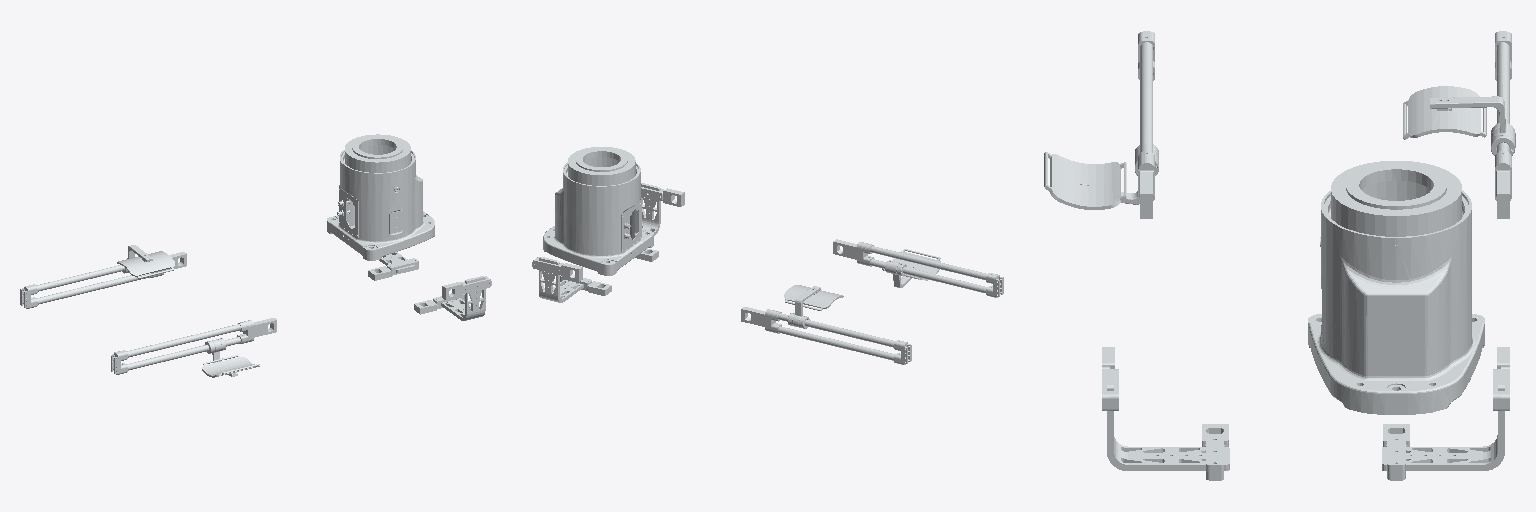
The robot description file, URDF, robot "exo":
<robot name="exo">
  <link name="base_link">
    <inertial>
      <origin xyz="0.0034138 -0.1254 -0.1285" rpy="0 0 0" />
      <mass value="3.6015" />
      <inertia ixx="0.0035299" ixy="-1.1671E-06" ixz="9.82E-06" iyy="0.0028399" iyz="-4.1754E-08" izz="0.0061042" />
    </inertial>
    <visual>
      <origin xyz="0 0 0" rpy="0 0 0" />
      <geometry>
        <mesh filename="meshes/base_link.STL" />
      </geometry>
      <material name="">
        <color rgba="0.89804 0.91765 0.92941 1" />
      </material>
    </visual>
    <collision>
      <origin xyz="0 0 0" rpy="0 0 0" />
      <geometry>
        <mesh filename="meshes/base_link.STL" />
      </geometry>
    </collision>
  </link>
  <link name="R_hip_ab_Link">
    <inertial>
      <origin xyz="0.062961 0.084633 -0.065069" rpy="0 0 0" />
      <mass value="0.70297" />
      <inertia ixx="0.0015946" ixy="-9.7055E-06" ixz="9.7056E-06" iyy="0.0011657" iyz="-0.00045578" izz="0.0016625" />
    </inertial>
    <visual>
      <origin xyz="0 0 0" rpy="0 0 0" />
      <geometry>
        <mesh filename="meshes/R_hip_ab_Link.STL" />
      </geometry>
      <material name="">
        <color rgba="0.89804 0.91765 0.92941 1" />
      </material>
    </visual>
    <collision>
      <origin xyz="0 0 0" rpy="0 0 0" />
      <geometry>
        <mesh filename="meshes/R_hip_ab_Link.STL" />
      </geometry>
    </collision>
  </link>
  <joint name="R_hip_ab" type="revolute">
    <origin xyz="0 0 0" rpy="0 0 0" />
    <parent link="base_link" />
    <child link="R_hip_ab_Link" />
    <axis xyz="0 0 1" />
    <limit lower="0" upper="0" effort="0" velocity="0" />
  </joint>
  <link name="R_hip_flex_link">
    <inertial>
      <origin xyz="-0.25942 0.0061337 -0.048518" rpy="0 0 0" />
      <mass value="3.3538" />
      <inertia ixx="0.0027427" ixy="-5.5939E-07" ixz="-1.307E-07" iyy="0.0040281" iyz="-6.4922E-05" izz="0.0059218" />
    </inertial>
    <visual>
      <origin xyz="0 0 0" rpy="0 0 0" />
      <geometry>
        <mesh filename="meshes/R_hip_flex_link.STL" />
      </geometry>
      <material name="">
        <color rgba="0.89804 0.91765 0.92941 1" />
      </material>
    </visual>
    <collision>
      <origin xyz="0 0 0" rpy="0 0 0" />
      <geometry>
        <mesh filename="meshes/R_hip_flex_link.STL" />
      </geometry>
    </collision>
  </link>
  <joint name="R_hip_flex" type="revolute">
    <origin xyz="0 0.121 0" rpy="1.5708 0 0" />
    <parent link="R_hip_ab_Link" />
    <child link="R_hip_flex_link" />
    <axis xyz="0 0 1" />
    <limit lower="0" upper="0" effort="0" velocity="0" />
  </joint>
  <link name="R_knee_link">
    <inertial>
      <origin xyz="-0.17215 0.025186 -0.0014145" rpy="0 0 0" />
      <mass value="0.75992" />
      <inertia ixx="0.00047703" ixy="9.6405E-09" ixz="-6.3773E-09" iyy="0.0023194" iyz="-4.8885E-05" izz="0.0021608" />
    </inertial>
    <visual>
      <origin xyz="0 0 0" rpy="0 0 0" />
      <geometry>
        <mesh filename="meshes/R_knee_link.STL" />
      </geometry>
      <material name="">
        <color rgba="0.89804 0.91765 0.92941 1" />
      </material>
    </visual>
    <collision>
      <origin xyz="0 0 0" rpy="0 0 0" />
      <geometry>
        <mesh filename="meshes/R_knee_link.STL" />
      </geometry>
    </collision>
  </link>
  <joint name="R_knee" type="revolute">
    <origin xyz="-0.543 0 0" rpy="0 0 0" />
    <parent link="R_hip_flex_link" />
    <child link="R_knee_link" />
    <axis xyz="0 0 1" />
    <limit lower="0" upper="0" effort="0" velocity="0" />
  </joint>
  <link name="L_hip_ab_link">
    <inertial>
      <origin xyz="0.062961 -0.084633 -0.065069" rpy="0 0 0" />
      <mass value="0.70297" />
      <inertia ixx="0.0015946" ixy="9.7056E-06" ixz="9.7056E-06" iyy="0.0011657" iyz="0.00045578" izz="0.0016625" />
    </inertial>
    <visual>
      <origin xyz="0 0 0" rpy="0 0 0" />
      <geometry>
        <mesh filename="meshes/L_hip_ab_link.STL" />
      </geometry>
      <material name="">
        <color rgba="0.89804 0.91765 0.92941 1" />
      </material>
    </visual>
    <collision>
      <origin xyz="0 0 0" rpy="0 0 0" />
      <geometry>
        <mesh filename="meshes/L_hip_ab_link.STL" />
      </geometry>
    </collision>
  </link>
  <joint name="L_hip_ab" type="revolute">
    <origin xyz="0 -0.25077 0" rpy="0 0 0" />
    <parent link="base_link" />
    <child link="L_hip_ab_link" />
    <axis xyz="0 0 1" />
    <limit lower="0" upper="0" effort="0" velocity="0" />
  </joint>
  <link name="L_hip_flex_link">
    <inertial>
      <origin xyz="-0.26043 -0.0056676 -0.047641" rpy="0 0 0" />
      <mass value="3.5709" />
      <inertia ixx="0.0028594" ixy="2.4549E-08" ixz="5.8238E-08" iyy="0.0041484" iyz="5.9975E-05" izz="0.0059578" />
    </inertial>
    <visual>
      <origin xyz="0 0 0" rpy="0 0 0" />
      <geometry>
        <mesh filename="meshes/L_hip_flex_link.STL" />
      </geometry>
      <material name="">
        <color rgba="0.89804 0.91765 0.92941 1" />
      </material>
    </visual>
    <collision>
      <origin xyz="0 0 0" rpy="0 0 0" />
      <geometry>
        <mesh filename="meshes/L_hip_flex_link.STL" />
      </geometry>
    </collision>
  </link>
  <joint name="L_hip_flex" type="revolute">
    <origin xyz="0 -0.121 0" rpy="-1.5708 0 0" />
    <parent link="L_hip_ab_link" />
    <child link="L_hip_flex_link" />
    <axis xyz="0 0 1" />
    <limit lower="0" upper="0" effort="0" velocity="0" />
  </joint>
  <link name="L_knee_link">
    <inertial>
      <origin xyz="-0.18036 -0.022106 0.00031702" rpy="0 0 0" />
      <mass value="0.75992" />
      <inertia ixx="0.00047703" ixy="1.033E-08" ixz="5.1968E-09" iyy="0.0023279" iyz="2.1846E-05" izz="0.0021524" />
    </inertial>
    <visual>
      <origin xyz="0 0 0" rpy="0 0 0" />
      <geometry>
        <mesh filename="meshes/L_knee_link.STL" />
      </geometry>
      <material name="">
        <color rgba="0.89804 0.91765 0.92941 1" />
      </material>
    </visual>
    <collision>
      <origin xyz="0 0 0" rpy="0 0 0" />
      <geometry>
        <mesh filename="meshes/L_knee_link.STL" />
      </geometry>
    </collision>
  </link>
  <joint name="L_knee" type="revolute">
    <origin xyz="-0.543 0 0" rpy=" 3.14159265 -0.          0.        " />
    <parent link="L_hip_flex_link" />
    <child link="L_knee_link" />
    <axis xyz="0 0 1" />
    <limit lower="0" upper="0" effort="0" velocity="0" />
  </joint>
</robot>

--- Facts derived from the render (not from the file) ---
3 views of the same robot in one strip: view 1: azimuth 30°, elevation 25°; view 2: azimuth 150°, elevation 25°; view 3: azimuth 270°, elevation 25° (orthographic).
Model exo with 7 links and 6 joints (6 revolute), rooted at base_link, posed every joint at zero.
Visible links, largest first — view 1: base_link, L_knee_link, R_knee_link, L_hip_ab_link, R_hip_ab_Link; view 2: base_link, R_knee_link, L_knee_link, R_hip_ab_Link, L_hip_ab_link; view 3: base_link, R_knee_link, L_knee_link, R_hip_ab_Link, L_hip_ab_link.
Link boxes in pixels (bbox=[...]): base_link: bbox=[327, 134, 434, 260]; L_knee_link: bbox=[111, 318, 276, 377]; R_knee_link: bbox=[20, 245, 186, 308]; L_hip_ab_link: bbox=[414, 276, 491, 320]; R_hip_ab_Link: bbox=[368, 252, 418, 280]; base_link: bbox=[543, 147, 653, 275]; R_knee_link: bbox=[741, 285, 911, 364]; L_knee_link: bbox=[833, 239, 1003, 297]; R_hip_ab_Link: bbox=[532, 257, 611, 302]; L_hip_ab_link: bbox=[635, 183, 684, 261]; base_link: bbox=[1308, 161, 1484, 414]; R_knee_link: bbox=[1403, 31, 1515, 218]; L_knee_link: bbox=[1044, 31, 1158, 218]; R_hip_ab_Link: bbox=[1382, 347, 1509, 480]; L_hip_ab_link: bbox=[1102, 347, 1229, 480].
Size in the robot's own frame: 1.2 by 0.6512 by 0.393 metres.
Meshes: 7 distinct files referenced, 5 mesh visuals loaded (5 binary STL); not drawn: 2 (reference not matched to a file when rendering).